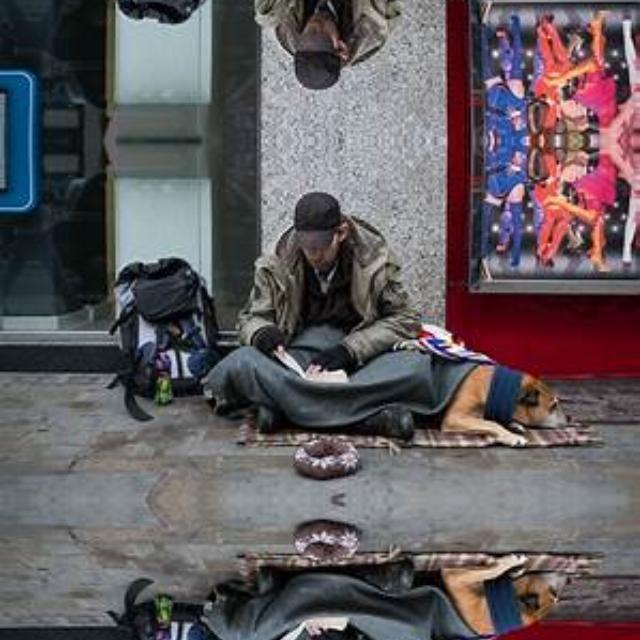person: (205, 178, 433, 448), (205, 0, 433, 102), (205, 550, 433, 640)
